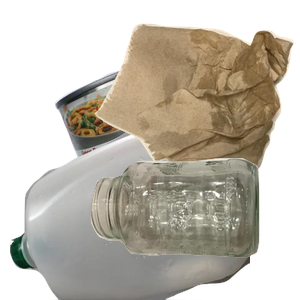glass: (88, 156, 300, 300)
metal: (52, 57, 260, 237)
plastic: (10, 120, 250, 300)
trash: (92, 21, 300, 201)
